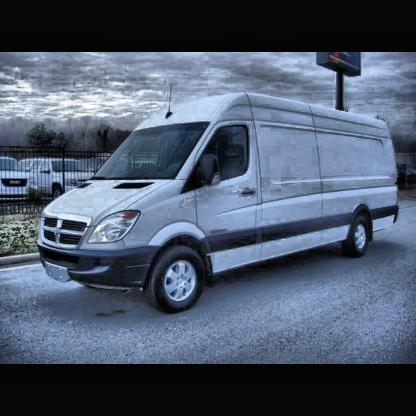Dodge Sprinter Cargo Van 2009: (37, 84, 402, 315)
